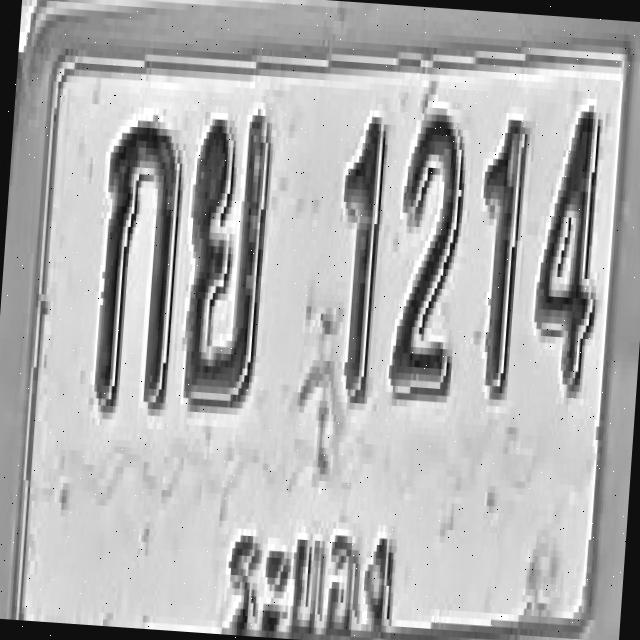1: (469, 112, 531, 400), (328, 111, 388, 407)
10GorGai: (91, 112, 186, 416)
2: (387, 105, 469, 402)
4: (528, 98, 608, 396)
43YorYak: (177, 108, 275, 412)
